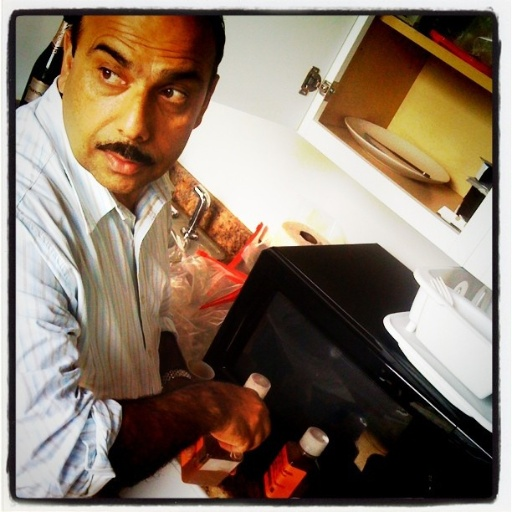hand: (207, 384, 271, 452), (164, 376, 194, 388)
